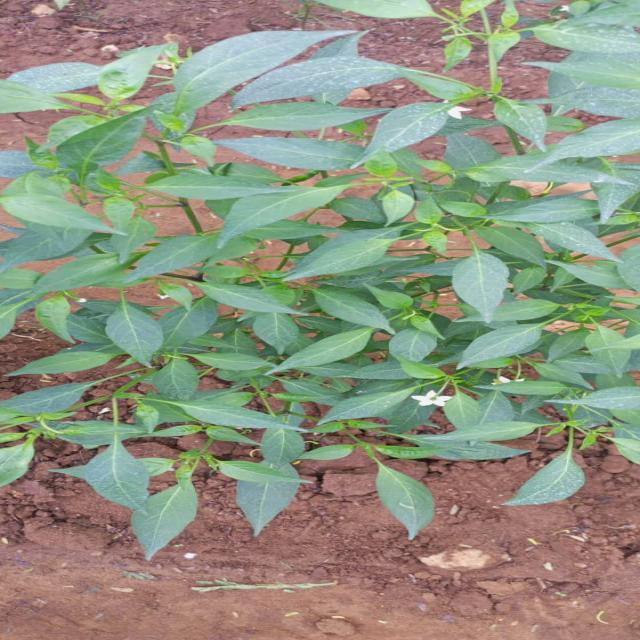Mosaic_virus: (0, 0, 640, 575)
